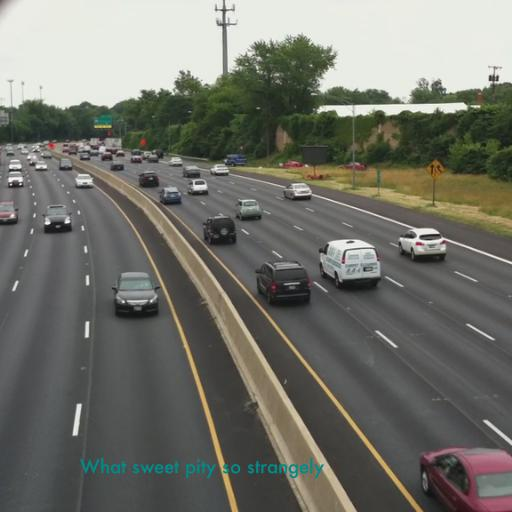Futura: (80, 457, 324, 479)
